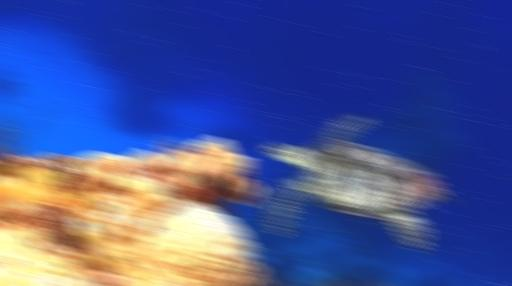Fish: (266, 116, 445, 250)
